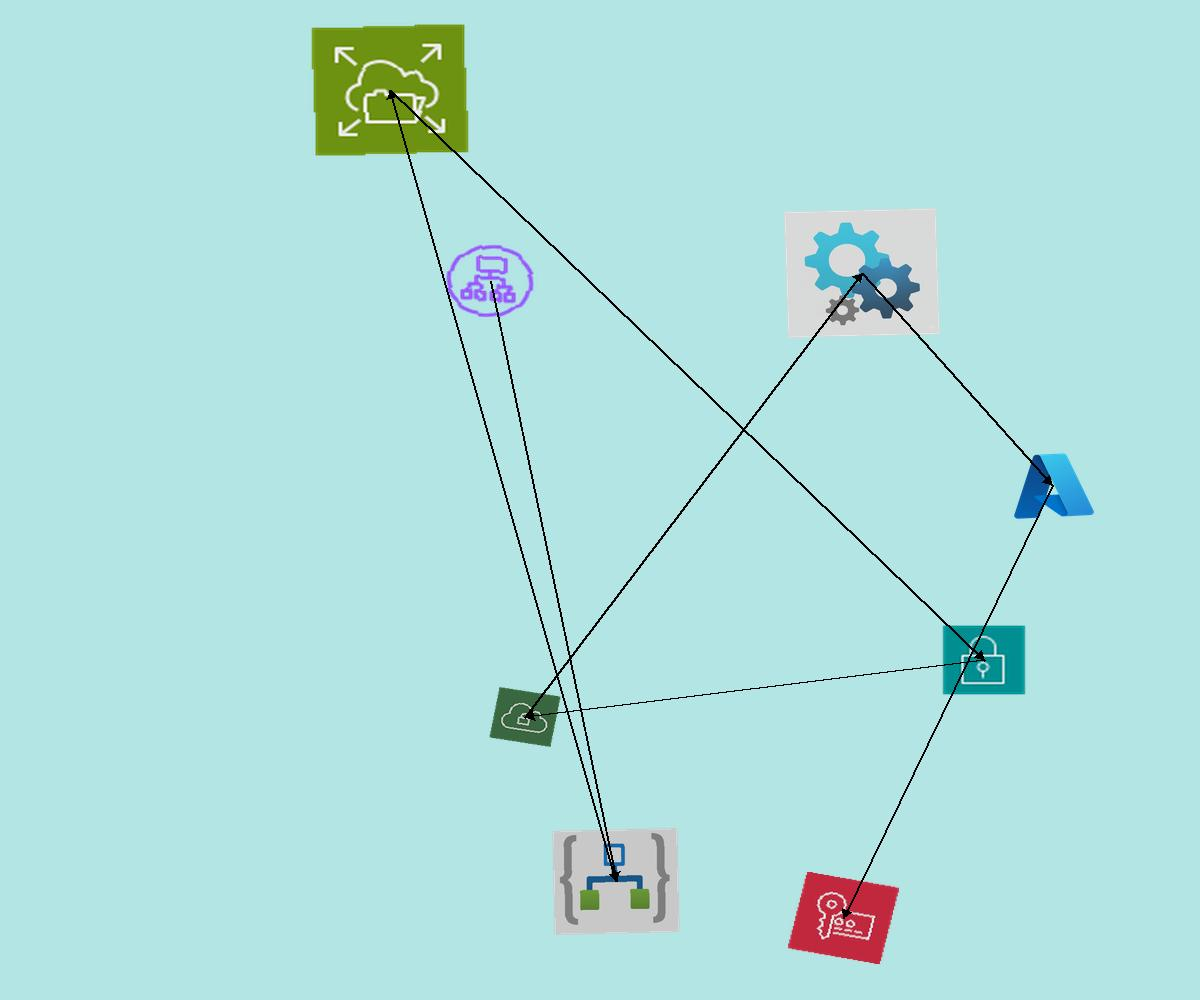AWS-EFS: (310, 23, 470, 157)
AWS-Key-Management-Service: (787, 871, 900, 965)
AWS-Private-subnet: (941, 624, 1027, 696)
AWS-Private_vpc: (489, 687, 561, 747)
AWS-Res_Elastic-Load-Balancing_Application-Load-Balancer: (437, 237, 543, 325)
Azure_api: (784, 208, 940, 338)
Azure_integration-204-Logic-Apps: (552, 828, 680, 935)
Azure_services: (1006, 447, 1098, 524)
